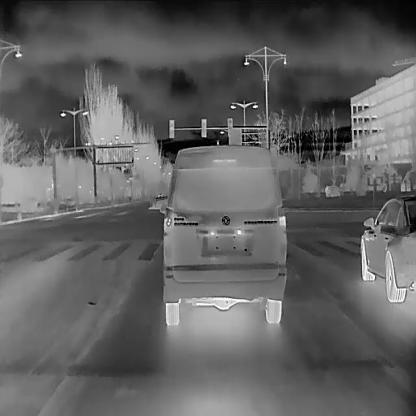car: (158, 144, 285, 325), (359, 194, 415, 302), (158, 192, 163, 197)
crosswalk: (0, 224, 154, 264), (289, 228, 353, 263)
